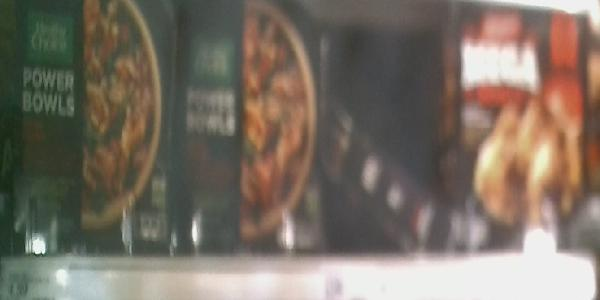pizza1: (437, 1, 590, 255), (12, 5, 171, 249), (171, 4, 322, 250)
